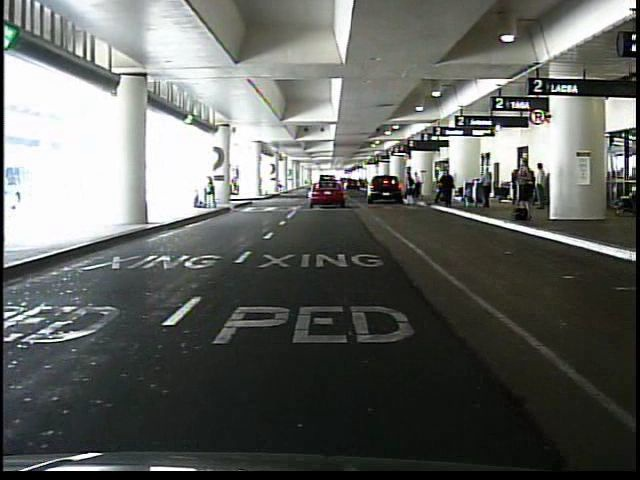person: (515, 156, 536, 210), (534, 161, 548, 211), (203, 173, 219, 210), (442, 169, 457, 208), (482, 165, 495, 209), (405, 169, 418, 204), (437, 167, 449, 204), (412, 170, 422, 198)
